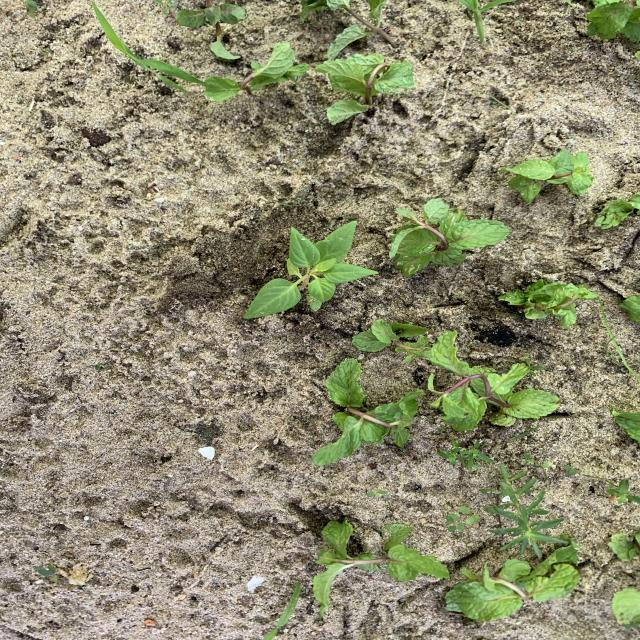crop: (428, 332, 558, 429), (315, 519, 445, 613), (314, 360, 422, 463), (446, 547, 579, 619), (390, 199, 508, 275), (318, 53, 415, 124), (205, 42, 307, 99), (300, 1, 392, 57), (501, 150, 592, 202), (499, 279, 597, 327), (175, 3, 246, 61), (353, 320, 430, 358), (588, 1, 639, 41), (595, 194, 639, 227), (613, 589, 639, 626), (612, 408, 639, 441), (610, 532, 639, 559), (619, 296, 639, 321)
weed: (244, 223, 375, 318), (91, 2, 201, 92), (480, 465, 568, 558), (600, 300, 639, 378), (460, 1, 512, 47), (265, 582, 299, 639), (437, 439, 494, 470), (472, 90, 518, 115), (447, 505, 479, 531), (606, 479, 639, 503), (37, 565, 59, 583), (525, 455, 551, 466), (366, 490, 387, 497), (563, 464, 575, 474)
